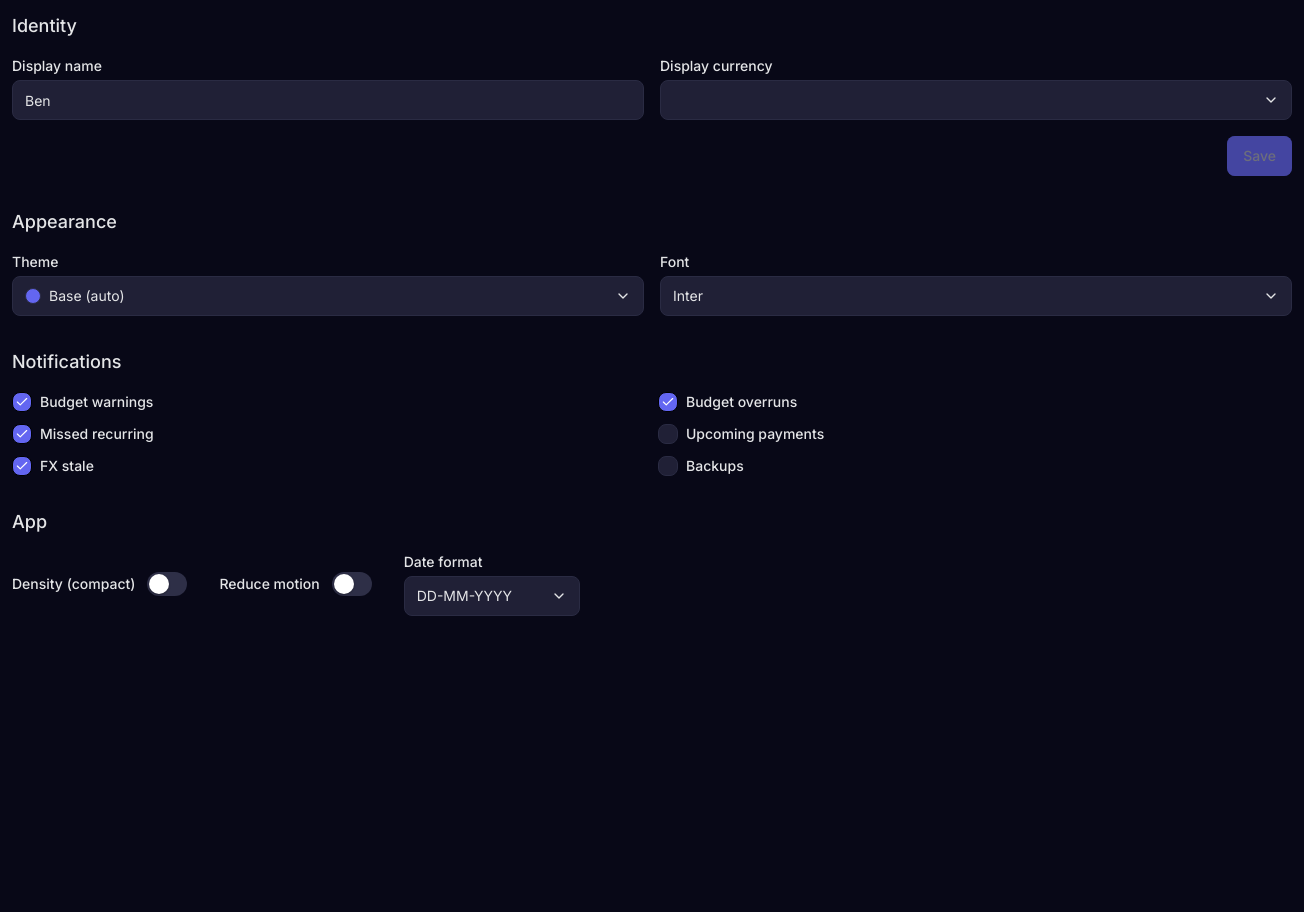
Scenario: ProfileTab › picking a date format persists it (no themeStore — read from currentPerson)
This screenshot has width=1304, height=912.
Click the button named "Date format". click: (492, 596)
box: [404, 576, 580, 616]
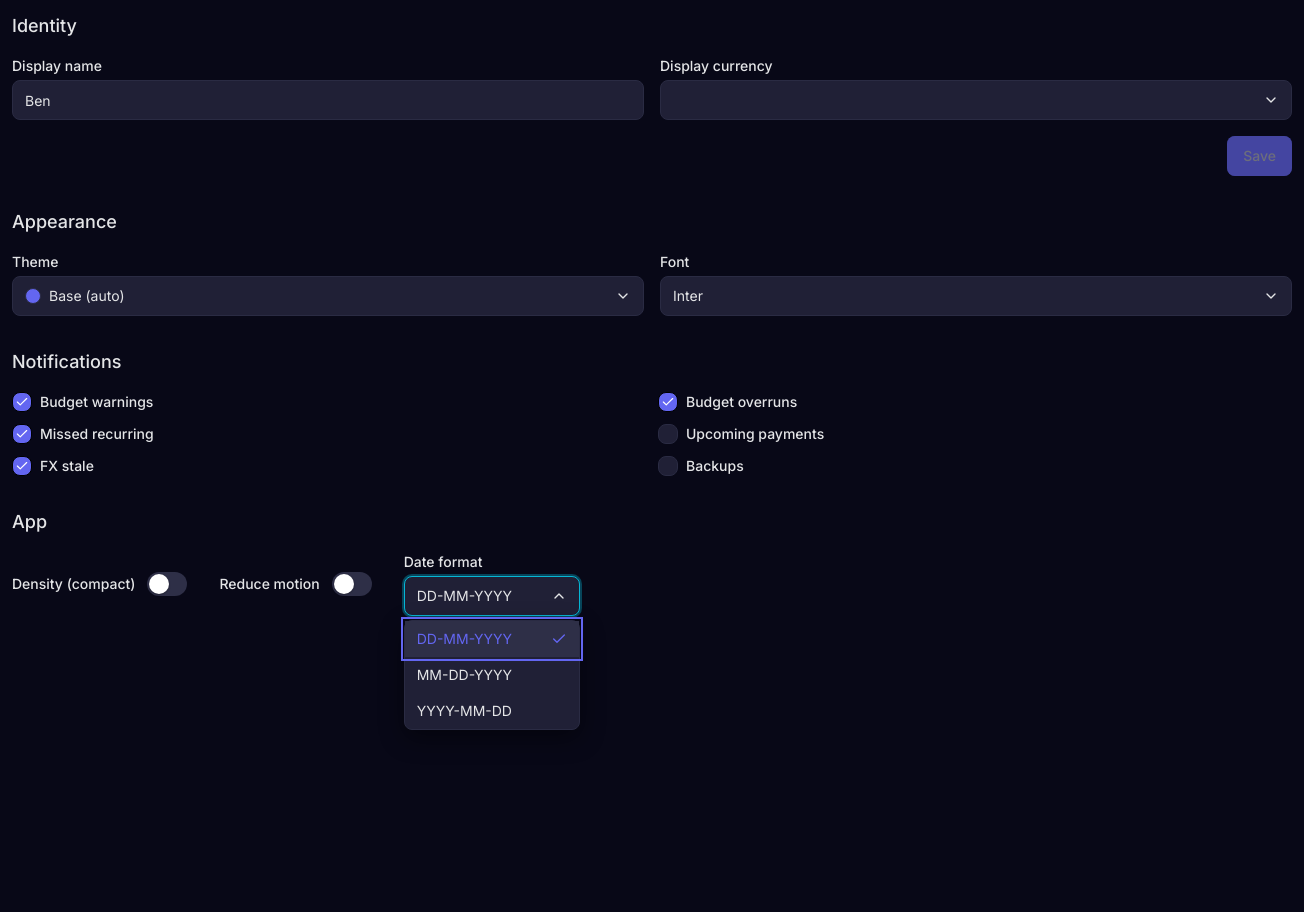
Click the option "MM-DD-YYYY". click: (492, 675)
box: [405, 657, 579, 693]
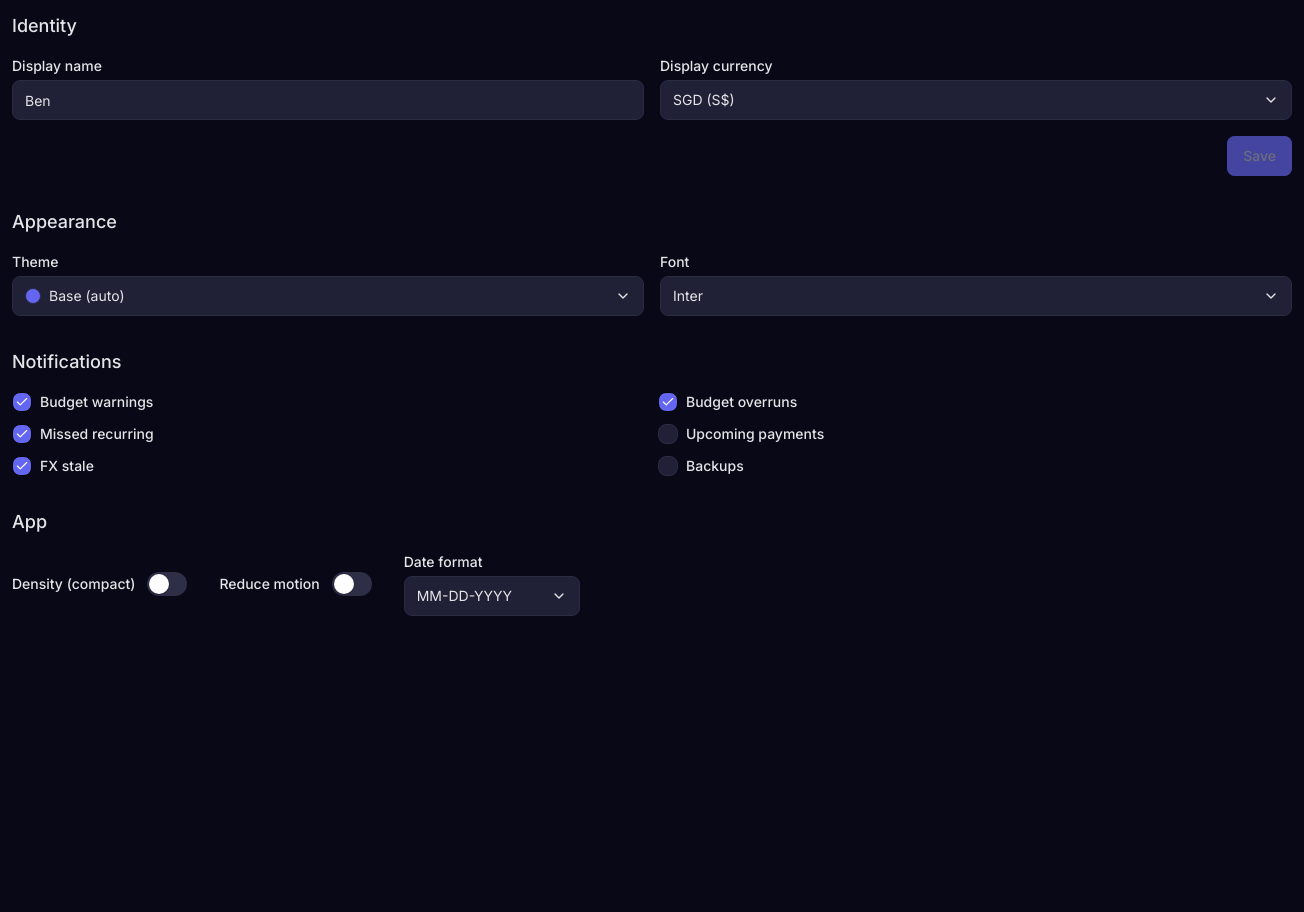
Now the text "MM-DD-YYYY" is shown, box [417, 587, 512, 604]
